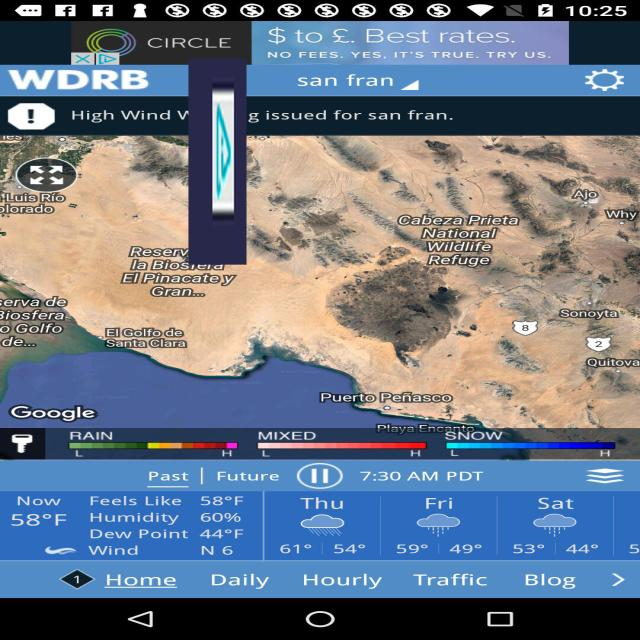sneaking: (188, 58, 246, 265)
